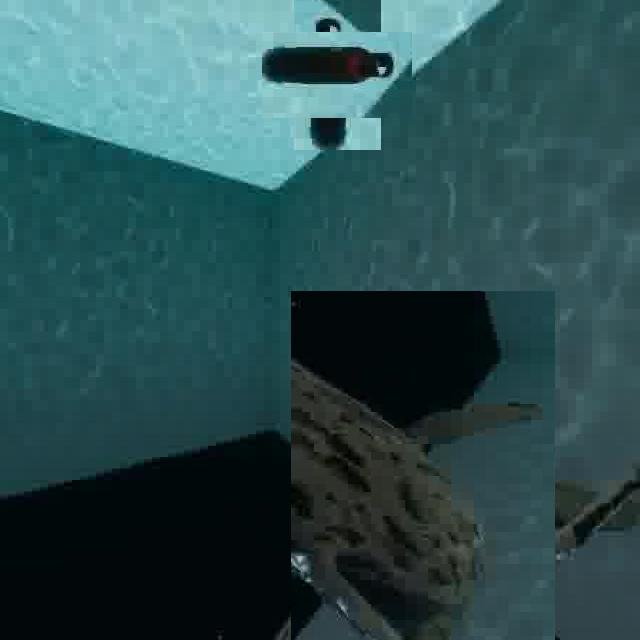Cylinder: (278, 16, 396, 134)
Whale: (248, 334, 597, 640)
